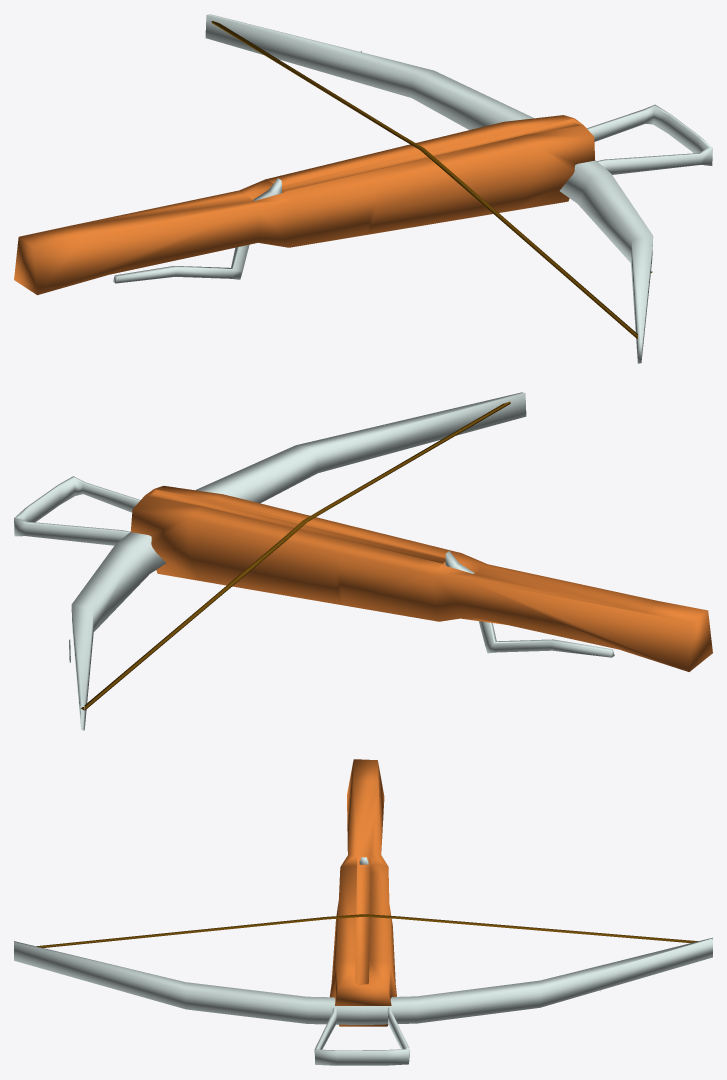
The model's file is Crossbow_lower_whole.fbx.
The picture shows the model from 3 angles, top to bottom: view 1: azimuth 30°, elevation 25°; view 2: azimuth 150°, elevation 25°; view 3: azimuth 270°, elevation 25°; orthographic projection. The views are drawn at different scales.
Parts seen in each view (by area): view 1: crossbow; view 2: crossbow; view 3: crossbow.
Boxes of the visible parts, <box> form: crossbow: <box>14,14,712,363</box>; crossbow: <box>14,392,712,730</box>; crossbow: <box>14,759,712,1065</box>.
Bounding box in the file's own units: 475 × 61.45 × 544.
